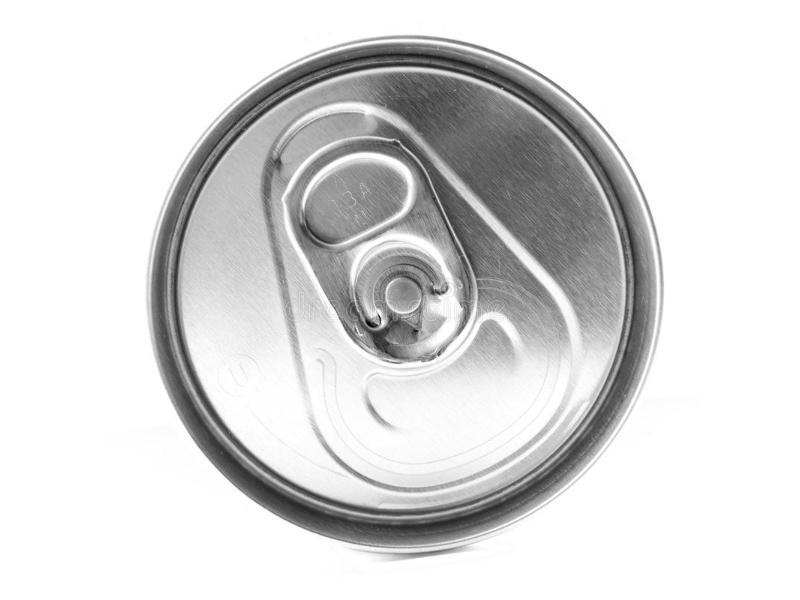can: (150, 35, 662, 552)
